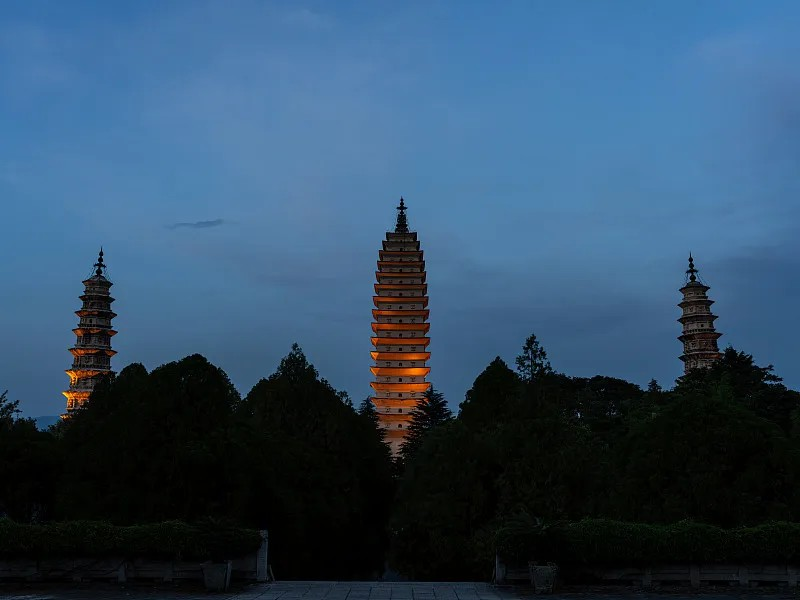ThreePagoda: (370, 197, 430, 462)
